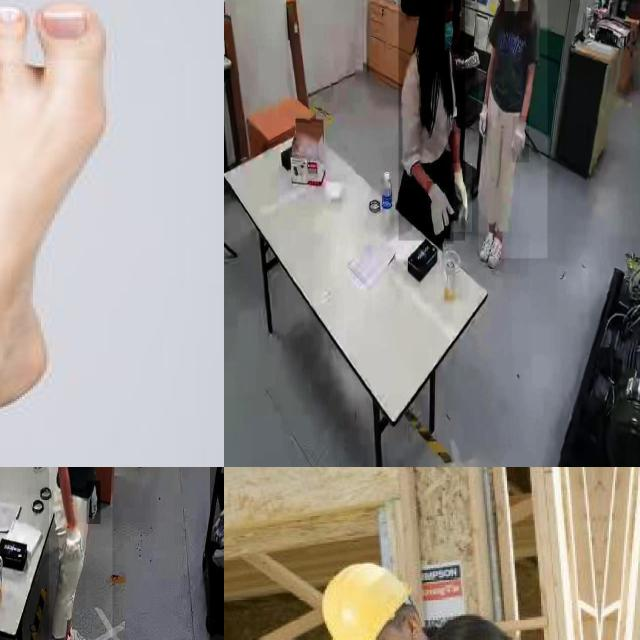Barefoots: (0, 0, 109, 399)
face_mask: (434, 11, 460, 54), (504, 0, 527, 11)
hand_glove: (426, 181, 454, 245), (450, 163, 472, 233), (65, 522, 85, 572), (512, 116, 530, 163), (87, 481, 101, 525), (479, 97, 491, 147), (209, 535, 224, 575), (212, 501, 224, 547)
head_helmet: (318, 562, 411, 640)
head_nohelmet: (424, 619, 491, 640)
person: (478, 0, 547, 259), (398, 0, 465, 241), (306, 563, 492, 640), (49, 467, 113, 640)
shoes: (475, 229, 495, 265), (486, 231, 502, 273), (60, 620, 89, 640)
